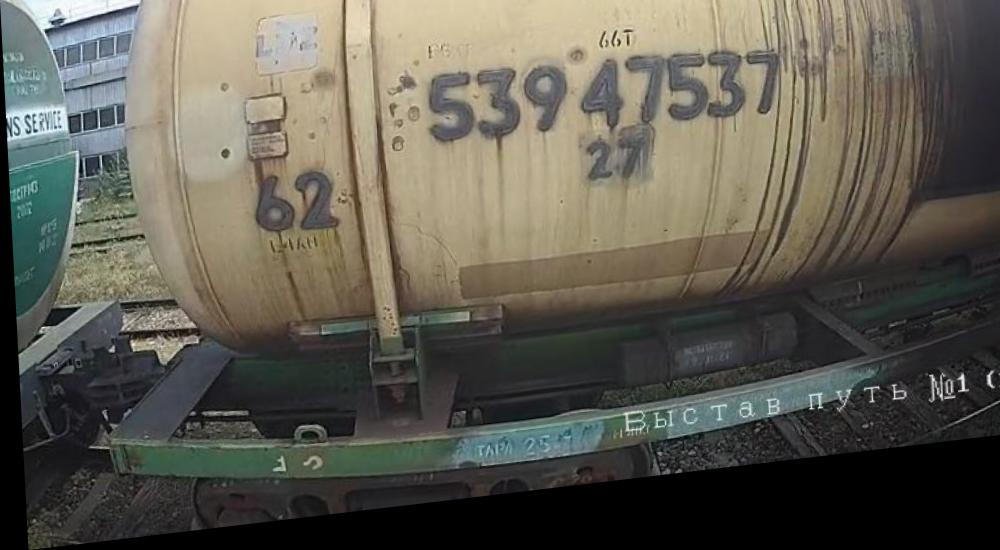Wagon-number: (423, 46, 785, 169)
